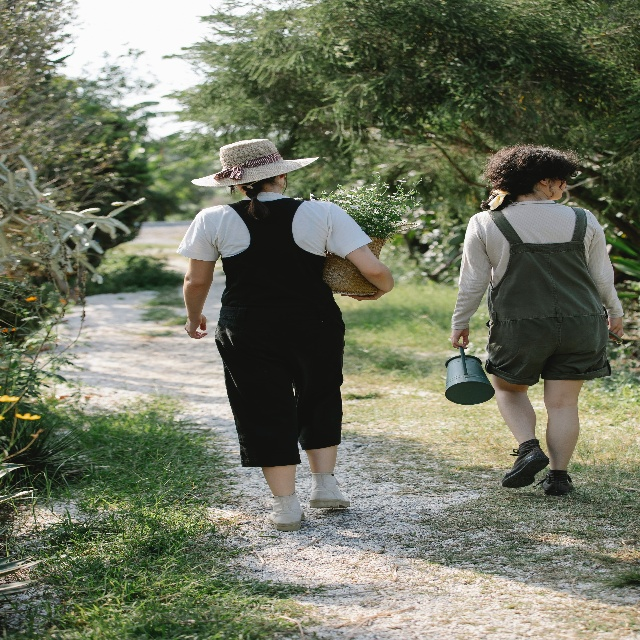Sin_guantes: (184, 313, 208, 339), (340, 289, 385, 301), (606, 315, 624, 341), (450, 328, 469, 349)
